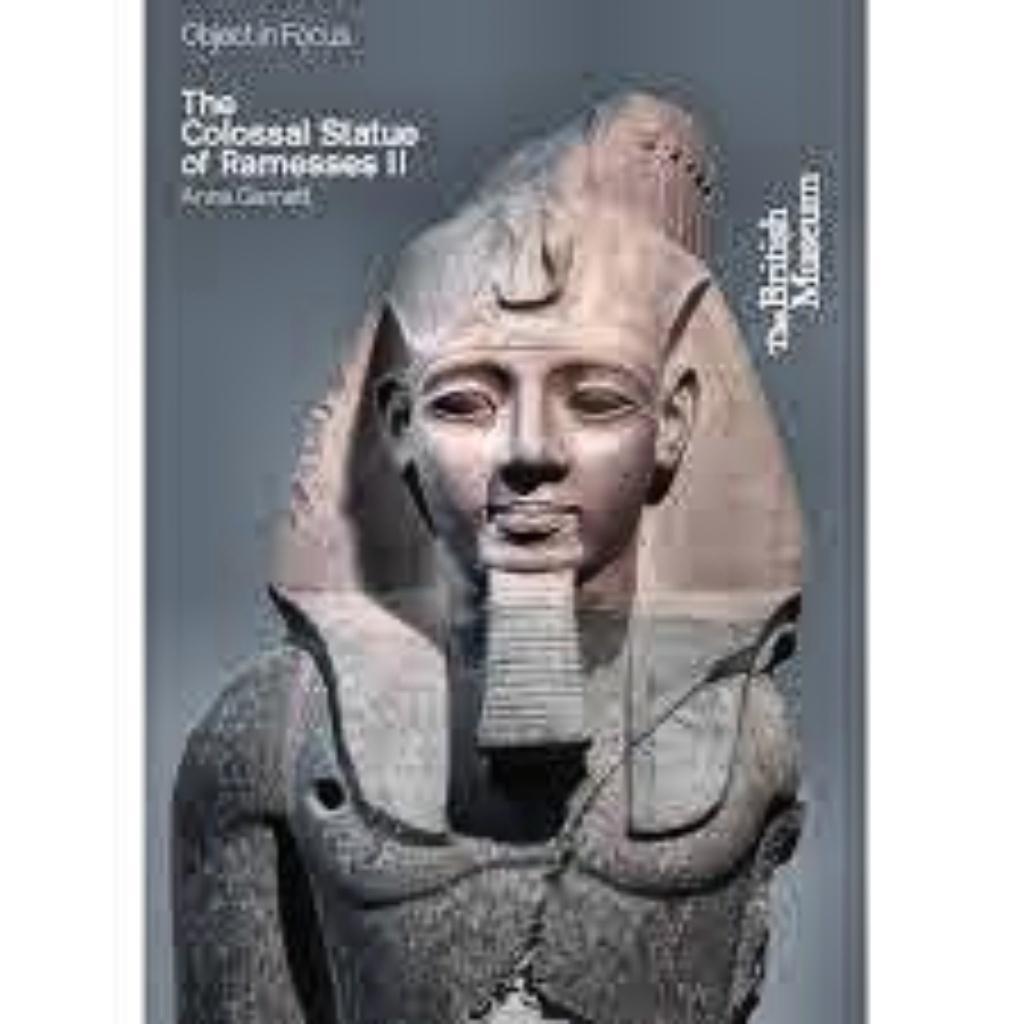bust of Ramesses II: (164, 82, 810, 1020)
